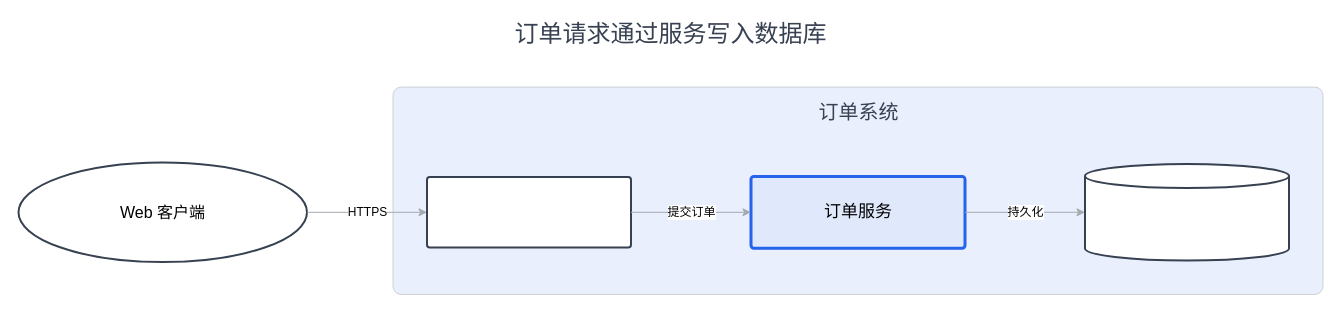
The diagram is 1340 pixels wide and 312 high, and some of its shapes have lost their labels. Here are the shapes that lost their labels. From the top down, the box of each, then its label:
(426, 176, 632, 248): API 入口
(1084, 163, 1290, 261): 订单库
